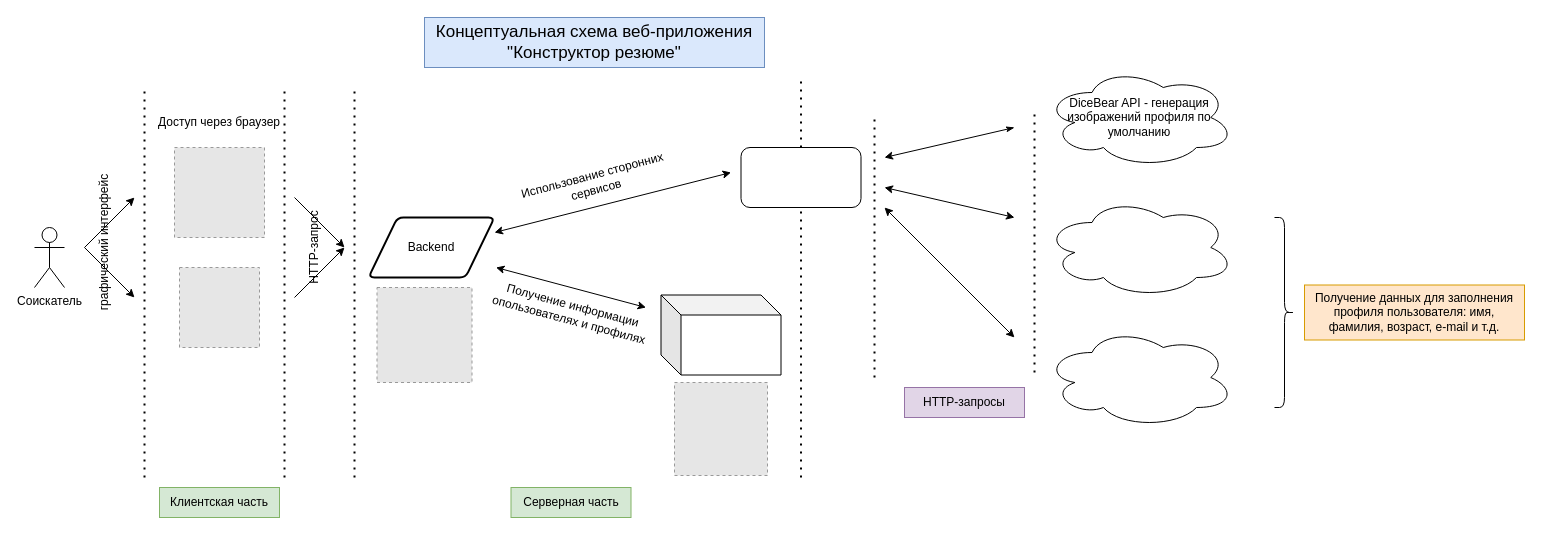
Some shapes in this 1542 by 535 pixel diagram are drawn without their labels. Grey dashed boxes stand in for pictures. The shapes that lost their labels are listed below. From the top down, each one's centre as x and y in pixels, then its label:
At [800,177]: "APIs".
At [1139,247]: "HeadHunter API".
At [720,334]: "Database".
At [1139,377]: "Google API".
